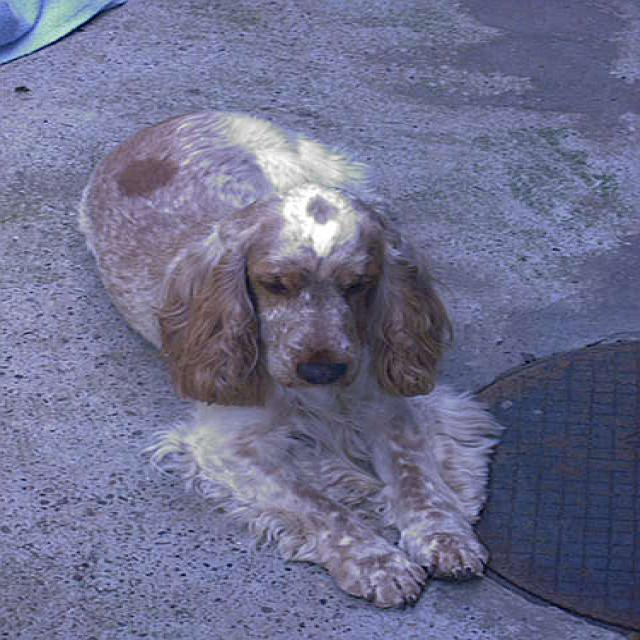dog-english_cocker_spaniel: (70, 95, 500, 613)
